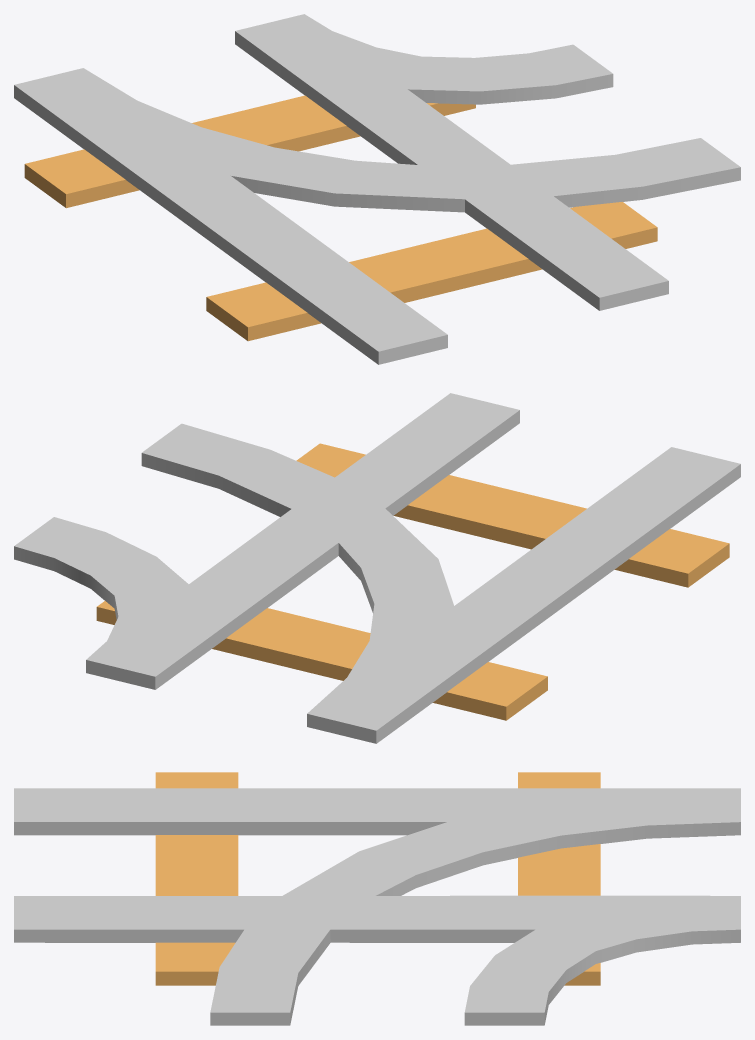
File: RailSwitchLeft.fbx
The picture shows the model from 3 angles, top to bottom: view 1: azimuth 30°, elevation 25°; view 2: azimuth 150°, elevation 25°; view 3: azimuth 270°, elevation 25°; orthographic projection.
Parts seen in each view (by area): view 1: Rail_Szyny_Switch, Rail_Track_Switch; view 2: Rail_Szyny_Switch, Rail_Track_Switch; view 3: Rail_Szyny_Switch, Rail_Track_Switch.
Boxes of the visible parts, x1=… form: Rail_Szyny_Switch: x1=14, y1=14, x2=740, y2=364; Rail_Track_Switch: x1=24, y1=95, x2=657, y2=341; Rail_Szyny_Switch: x1=14, y1=393, x2=740, y2=743; Rail_Track_Switch: x1=96, y1=443, x2=729, y2=720; Rail_Szyny_Switch: x1=14, y1=788, x2=740, y2=1025; Rail_Track_Switch: x1=155, y1=772, x2=600, y2=985.
Size of the model in its own units: 82.45 by 4.08 by 100.
